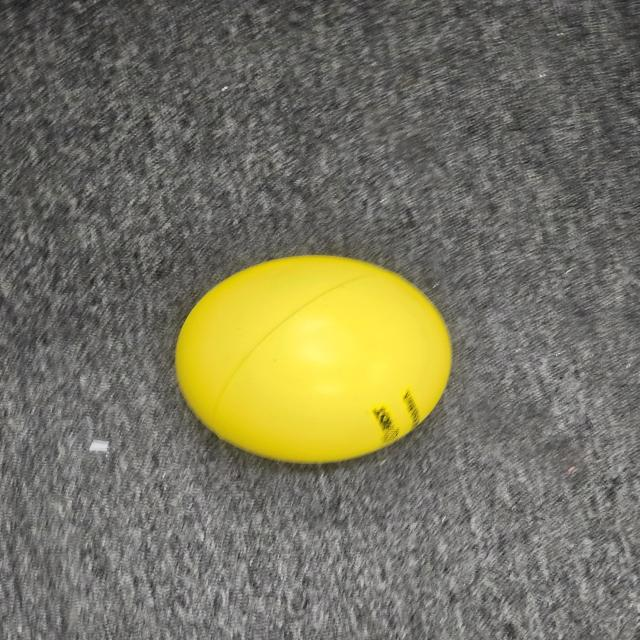Fuel: (166, 250, 465, 469)
